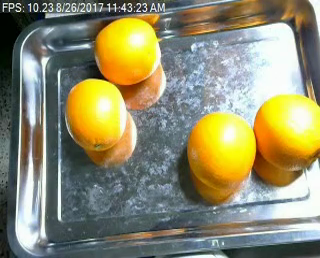Orange: (186, 110, 256, 188), (254, 93, 320, 169), (65, 77, 127, 150), (94, 17, 161, 84)
